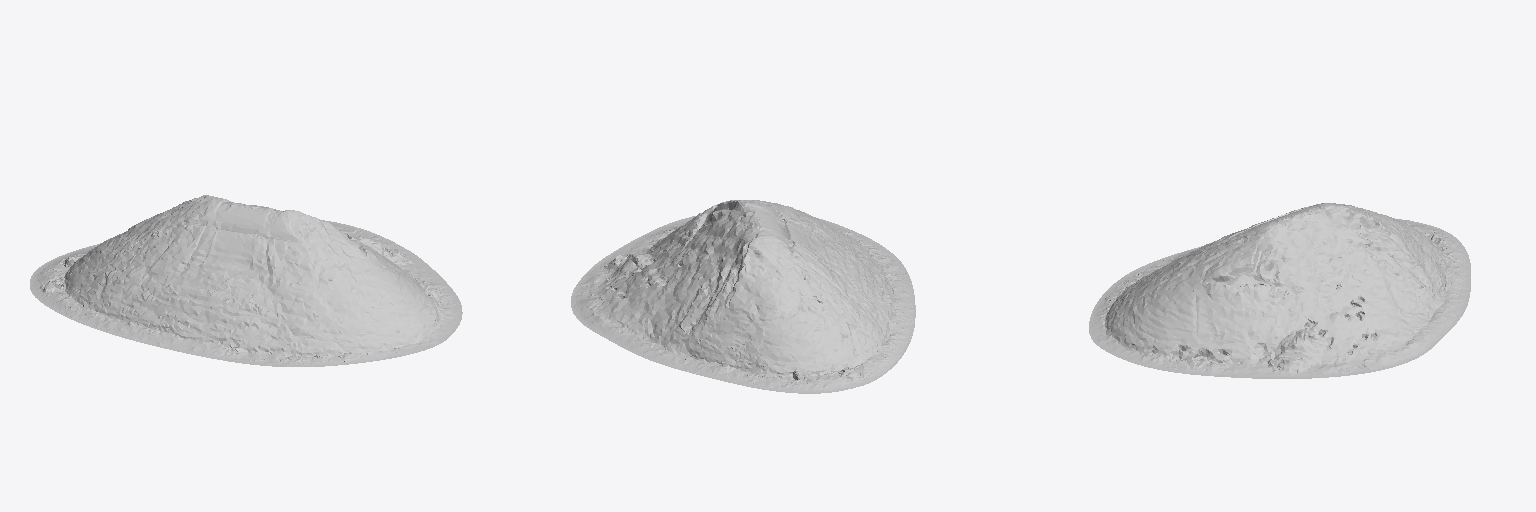
The model's file is salt.obj.
3 views of the same model, side by side, from view 1: azimuth 30°, elevation 25°; view 2: azimuth 150°, elevation 25°; view 3: azimuth 270°, elevation 25° (orthographic).
Visible parts, largest first — view 1: hromada_pisek_01_30k; view 2: hromada_pisek_01_30k; view 3: hromada_pisek_01_30k.
Part boxes in pixels (left/top/right/bottom): hromada_pisek_01_30k: left=30, top=195, right=462, bottom=366; hromada_pisek_01_30k: left=571, top=200, right=915, bottom=393; hromada_pisek_01_30k: left=1089, top=203, right=1470, bottom=378.
Bounding box in the file's own units: 34.44 × 8.55 × 34.62.